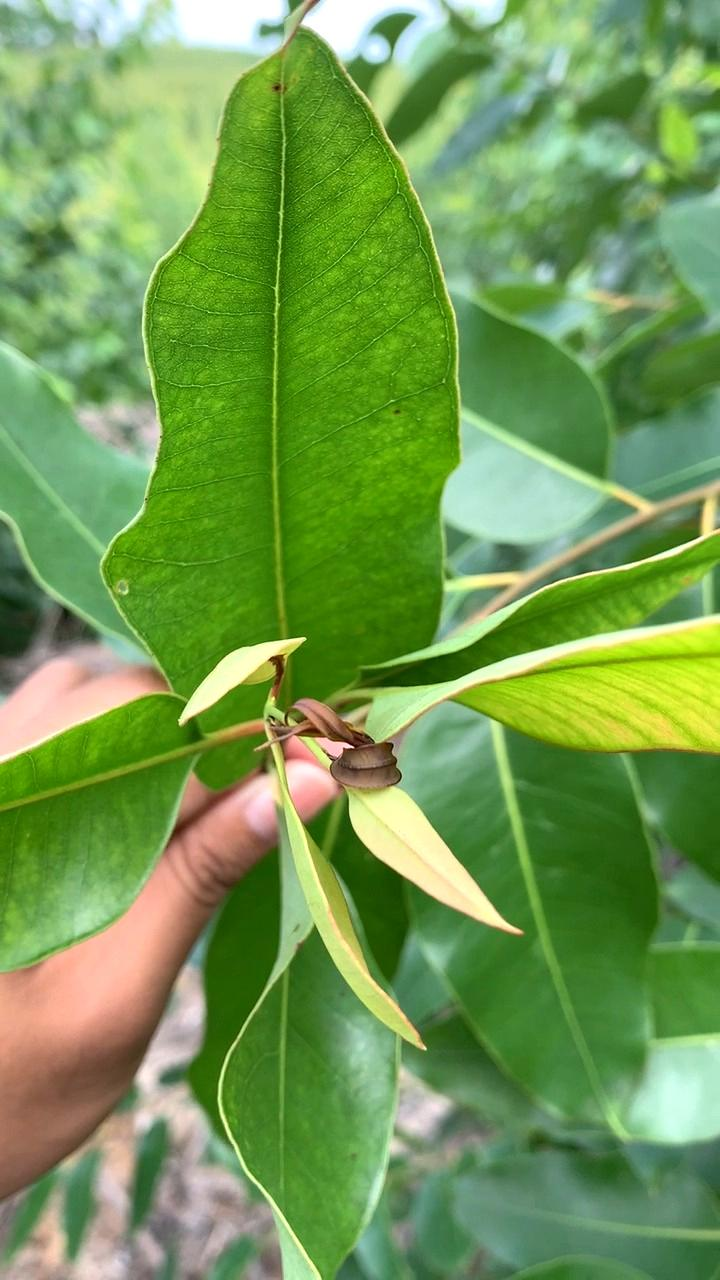Helopeltis-Withered Sprout: (276, 668, 417, 811)
